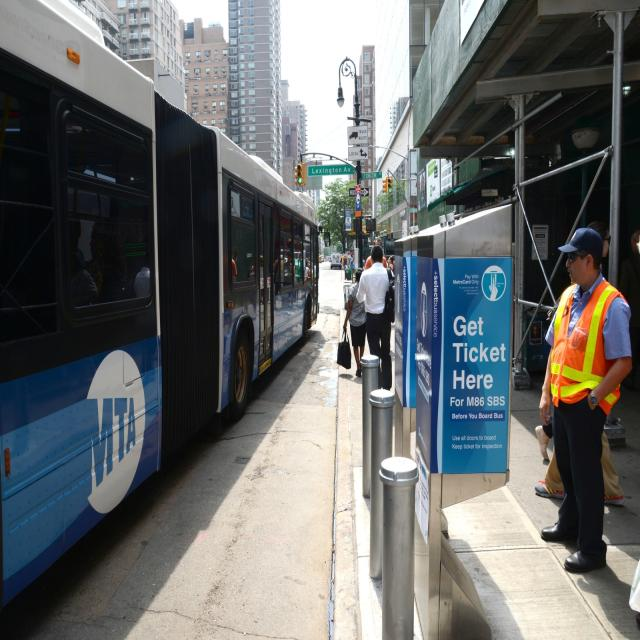body: (535, 225, 635, 578), (534, 220, 611, 463), (61, 185, 155, 303), (355, 244, 394, 391), (228, 238, 318, 298), (618, 229, 640, 393), (342, 266, 368, 378), (532, 433, 570, 504), (596, 430, 628, 506), (364, 236, 389, 272), (339, 250, 356, 268), (349, 254, 356, 284), (382, 253, 396, 267), (388, 256, 394, 275), (322, 253, 332, 264), (361, 255, 366, 267)
